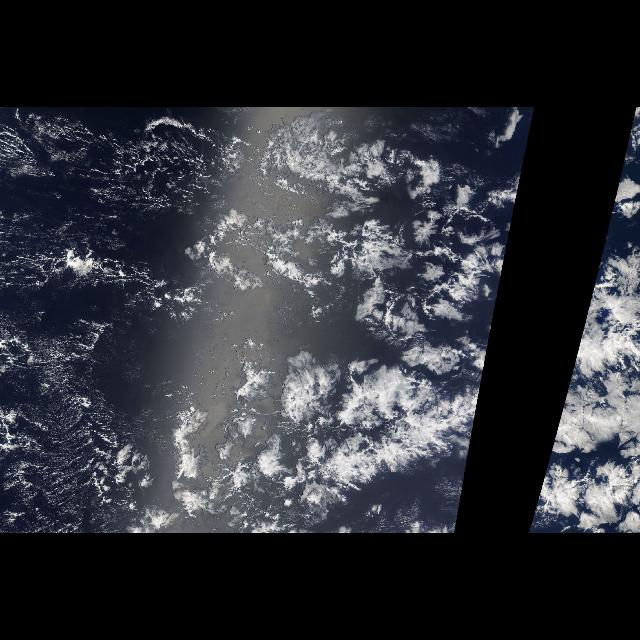Flower: (154, 109, 496, 528)
Gravel: (5, 108, 197, 222)
Sugar: (2, 108, 180, 530)
